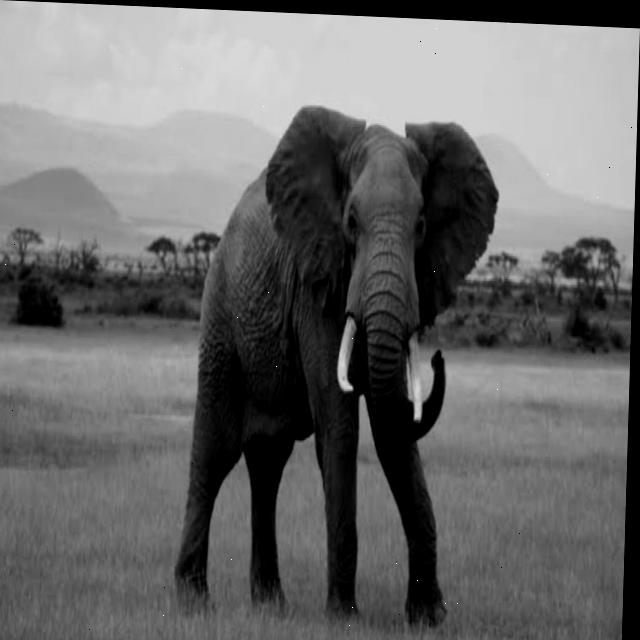Elephant: (173, 98, 502, 633)
